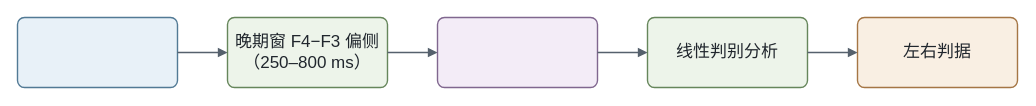
Image size: 1036x106. Some labels were removed from this diagram. Each missing label, with the centre of its shape:
"早期窗 Fz 幅值（80–250 ms）" belongs at point (97, 52).
"联合特征向量" belongs at point (517, 52).
